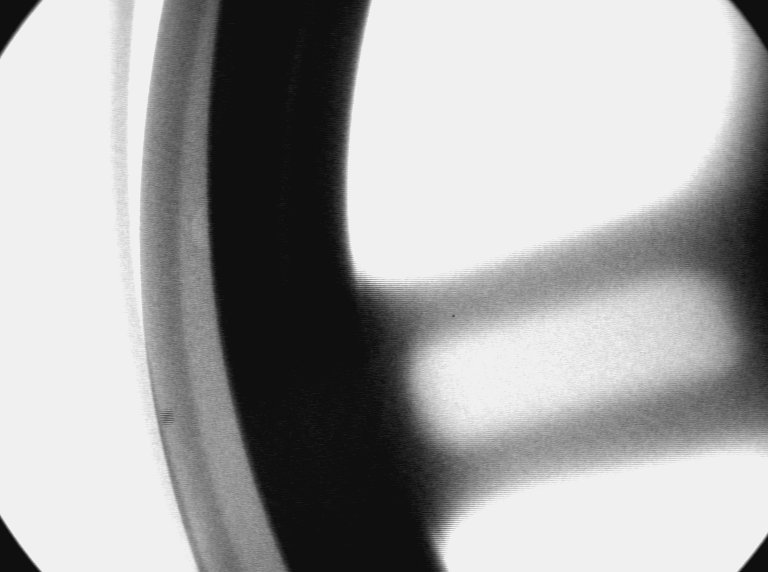defect: (190, 201, 214, 257)
